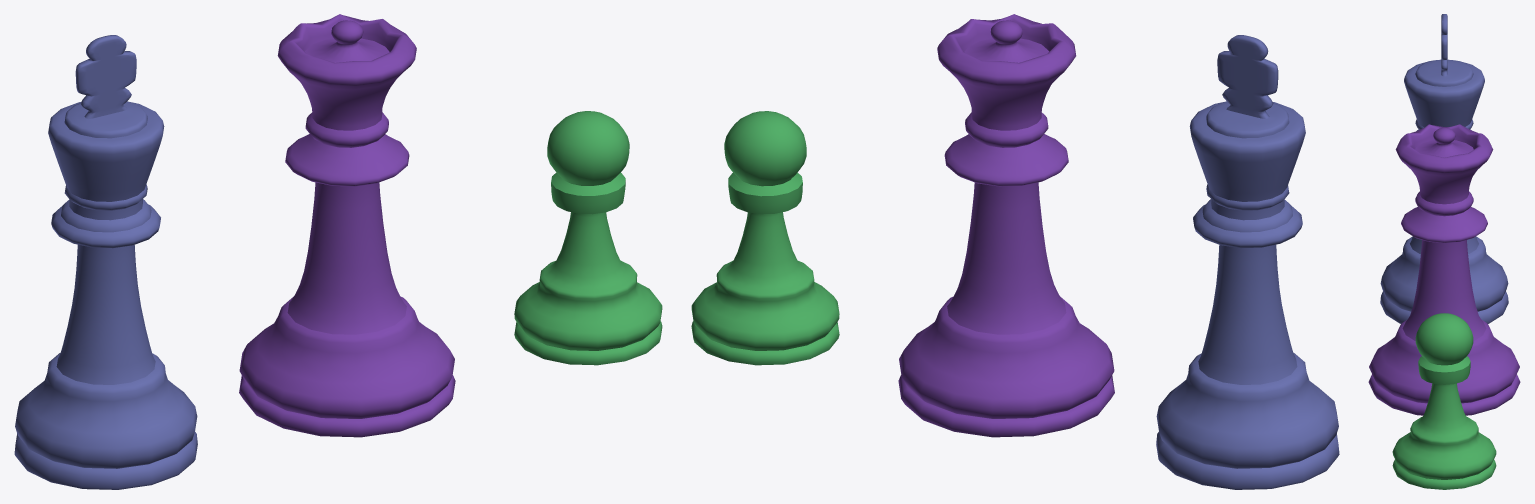
File: Chess Pieces UV Map Practice.fbx
3 renders of one model, left to right at view 1: azimuth 30°, elevation 25°; view 2: azimuth 150°, elevation 25°; view 3: azimuth 270°, elevation 25°, orthographic. The views are drawn at different scales.
Parts seen in each view (by area): view 1: Queen_Geo, King_Geo, Pawn_Geo; view 2: Queen_Geo, King_Geo, Pawn_Geo; view 3: Queen_Geo, Pawn_Geo, King_Geo.
Part boxes in pixels (left/top/right/bottom): Queen_Geo: left=239, top=14, right=455, bottom=437; King_Geo: left=14, top=35, right=197, bottom=489; Pawn_Geo: left=514, top=111, right=662, bottom=365; Queen_Geo: left=898, top=14, right=1114, bottom=437; King_Geo: left=1156, top=35, right=1339, bottom=489; Pawn_Geo: left=691, top=111, right=839, bottom=365; Queen_Geo: left=1368, top=124, right=1520, bottom=415; Pawn_Geo: left=1392, top=313, right=1496, bottom=489; King_Geo: left=1380, top=14, right=1508, bottom=323.
Bounding box in the file's own units: 5.2 × 3.3 × 1.57.
